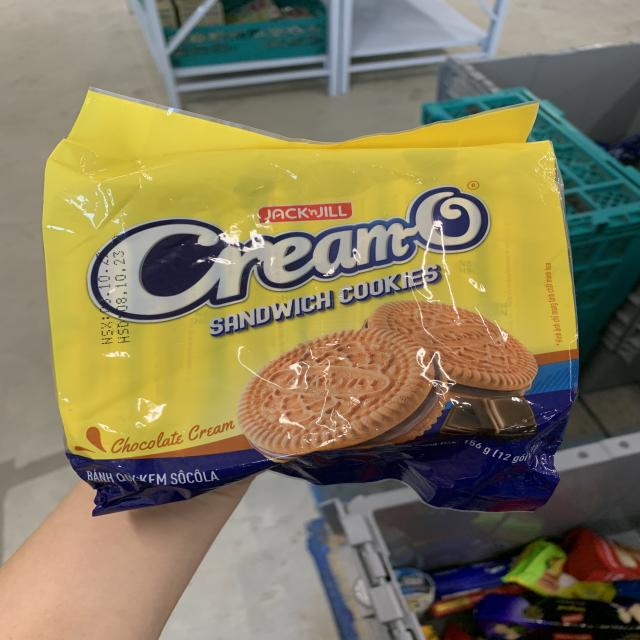object_name: (60, 148, 551, 490)
